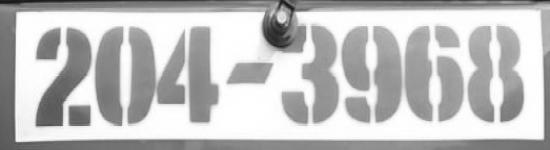-: (224, 59, 276, 97)
0: (93, 21, 159, 134)
2: (29, 25, 94, 130)
3: (278, 18, 341, 133)
4: (159, 25, 225, 135)
6: (403, 20, 468, 130)
8: (466, 15, 531, 131)
9: (340, 21, 405, 133)
